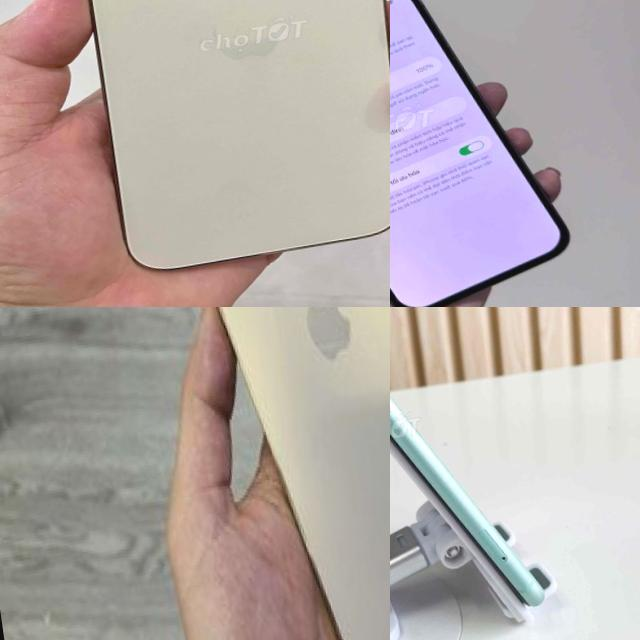gen_11: (390, 394, 544, 606)
gen_12_13: (138, 307, 390, 640)
gen_14: (43, 0, 390, 281), (390, 0, 597, 307)
